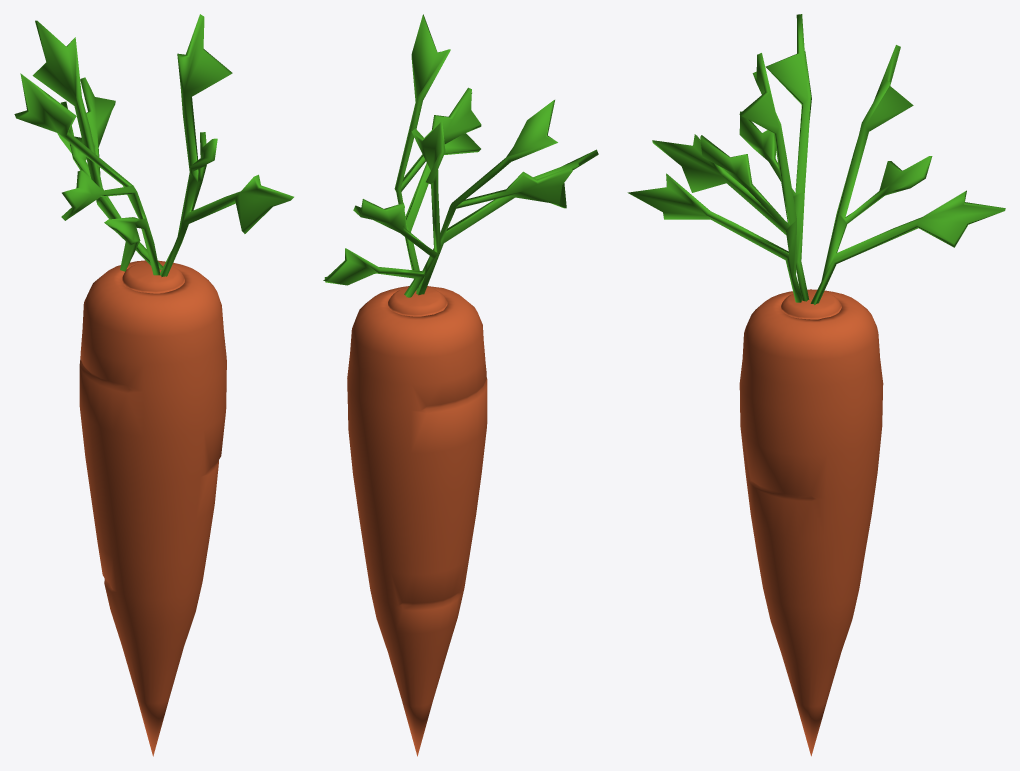
File: CenouraVerde.fbx
The picture shows the model from 3 angles, left to right: view 1: azimuth 30°, elevation 25°; view 2: azimuth 150°, elevation 25°; view 3: azimuth 270°, elevation 25°; orthographic projection. The views are drawn at different scales.
Parts seen in each view (by area): view 1: CenouraVerde; view 2: CenouraVerde; view 3: CenouraVerde.
Boxes of the visible parts, left/top/right/bottom form: CenouraVerde: left=14, top=14, right=293, bottom=756; CenouraVerde: left=323, top=14, right=598, bottom=756; CenouraVerde: left=627, top=14, right=1005, bottom=756.
Bounding box in the file's own units: 4.9 × 17.2 × 8.27.
